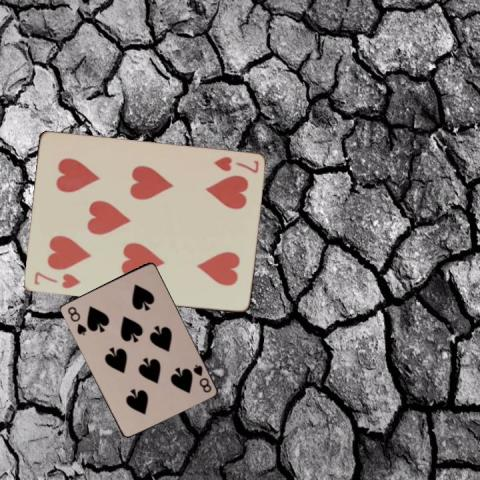7h: (31, 269, 82, 290), (210, 154, 260, 175)
8s: (64, 303, 88, 337), (190, 361, 213, 394)
